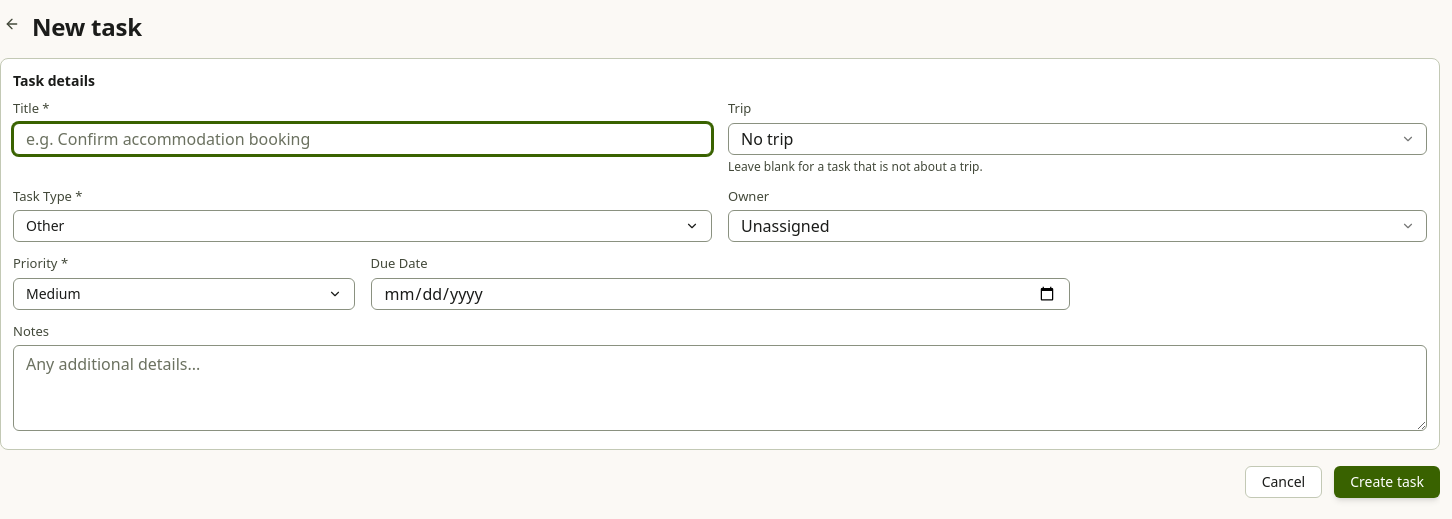
it: zodResolver forms: empty submit › TaskCreatePage shows the field errors and throws nothing
Click the button "Create task".
click(1387, 482)  # box [1334,466,1440,498]
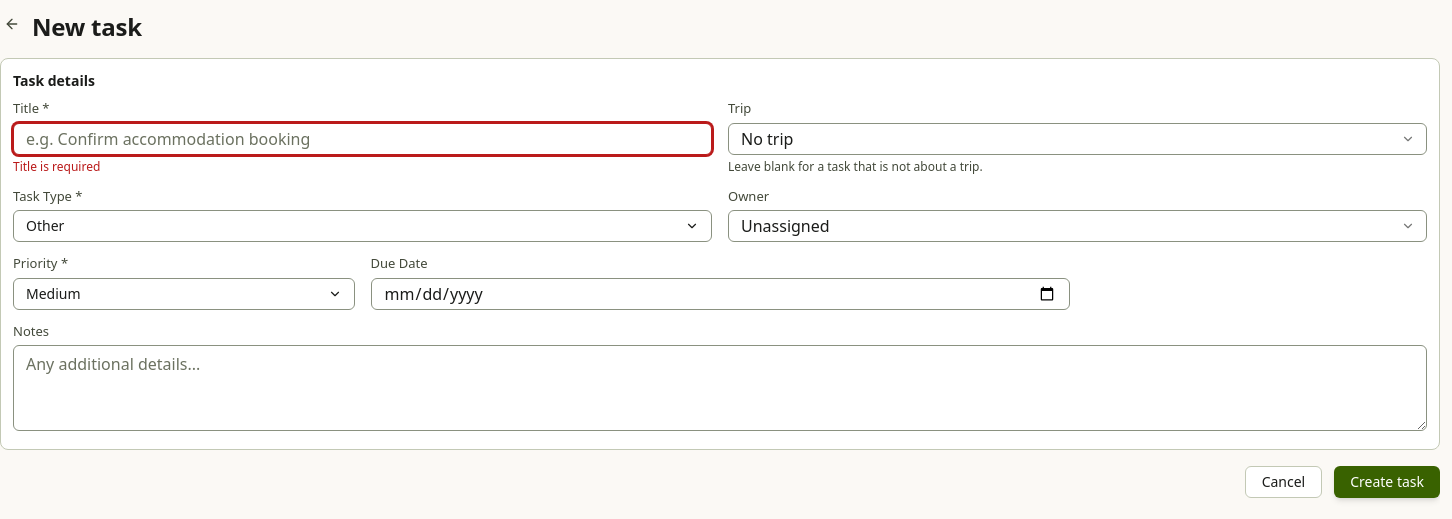
Expected: the text "Title is required" is shown, [13,158,100,174]
